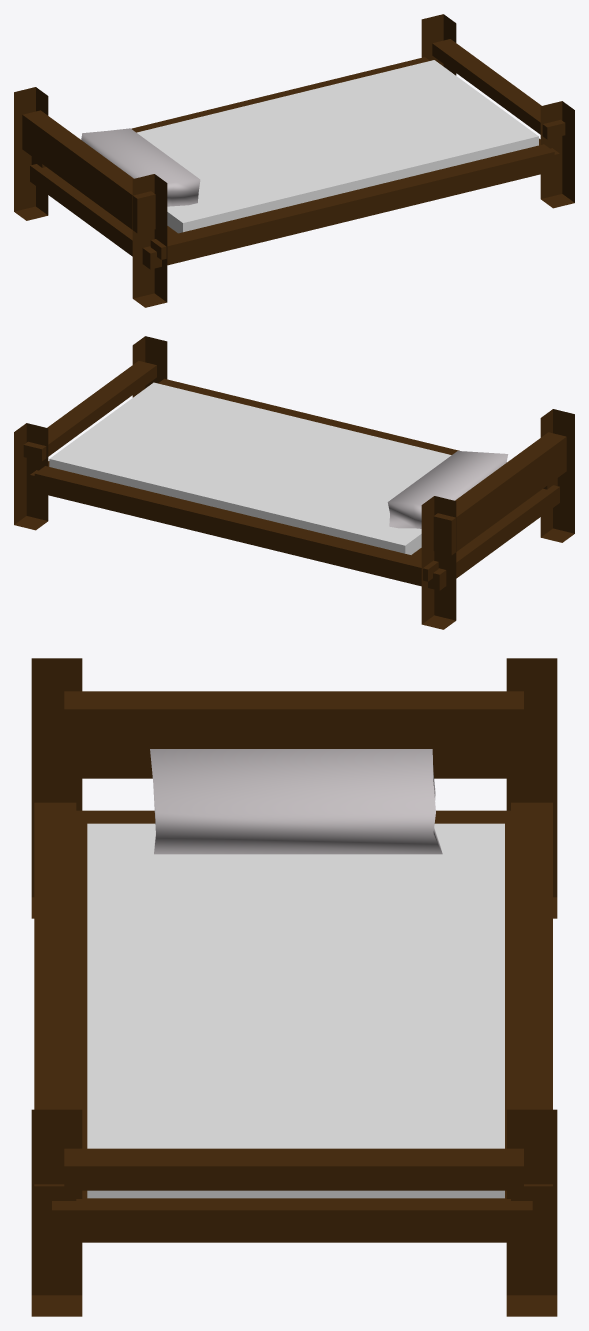
Rendered from krevet.fbx.
3 renders of one model, top to bottom at view 1: azimuth 30°, elevation 25°; view 2: azimuth 150°, elevation 25°; view 3: azimuth 270°, elevation 25°, orthographic. The views are drawn at different scales.
Visible parts, largest first — view 1: Cube.007, Cube.009, Cube; view 2: Cube.007, Cube.009, Cube; view 3: Cube.007, Cube.009, Cube.
Boxes of the visible parts, left/top/right/bottom form: Cube.007: left=14, top=14, right=574, bottom=307; Cube.009: left=137, top=60, right=538, bottom=233; Cube: left=81, top=128, right=200, bottom=206; Cube.007: left=14, top=336, right=574, bottom=629; Cube.009: left=49, top=382, right=451, bottom=554; Cube: left=387, top=451, right=508, bottom=528; Cube.007: left=31, top=658, right=557, bottom=1316; Cube.009: left=87, top=823, right=504, bottom=1198; Cube: left=150, top=749, right=442, bottom=854.
Bounding box in the file's own units: 1276 × 339 × 676.
